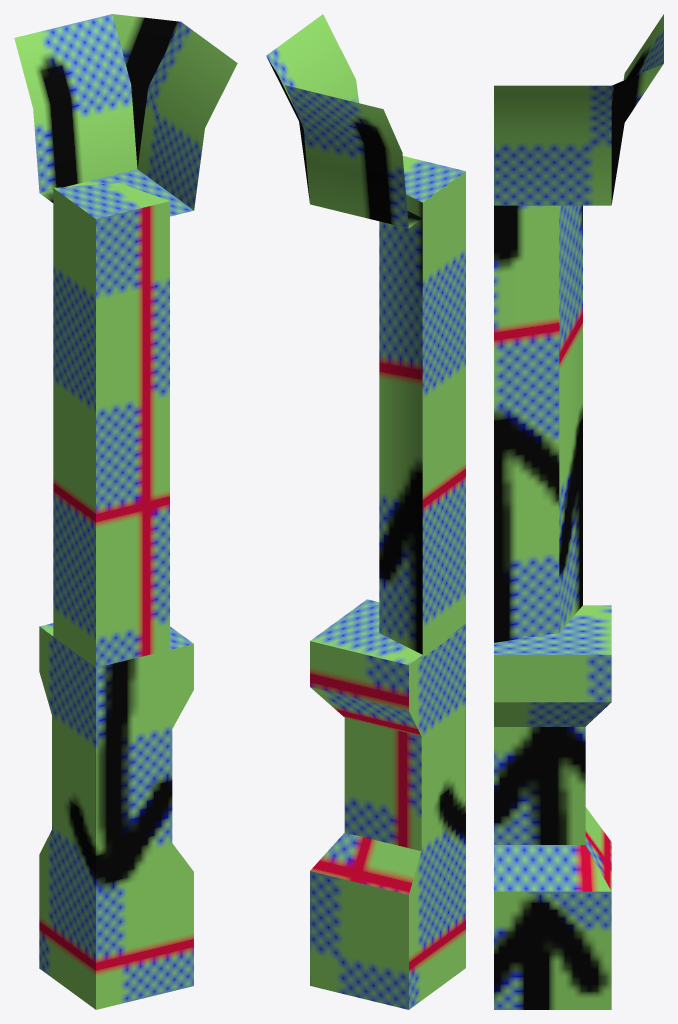
File: pilar_quad.obj
The picture shows the model from 3 angles, left to right: view 1: azimuth 30°, elevation 25°; view 2: azimuth 150°, elevation 25°; view 3: azimuth 270°, elevation 25°; orthographic projection. The views are drawn at different scales.
Parts seen in each view (by area): view 1: pilar; view 2: pilar; view 3: pilar.
Part boxes in pixels (<box>): pilar: <box>14,14,237,1009</box>; pilar: <box>266,14,465,1009</box>; pilar: <box>494,14,663,1009</box>.
Size of the model in its own units: 1.3 by 8 by 1.3.
